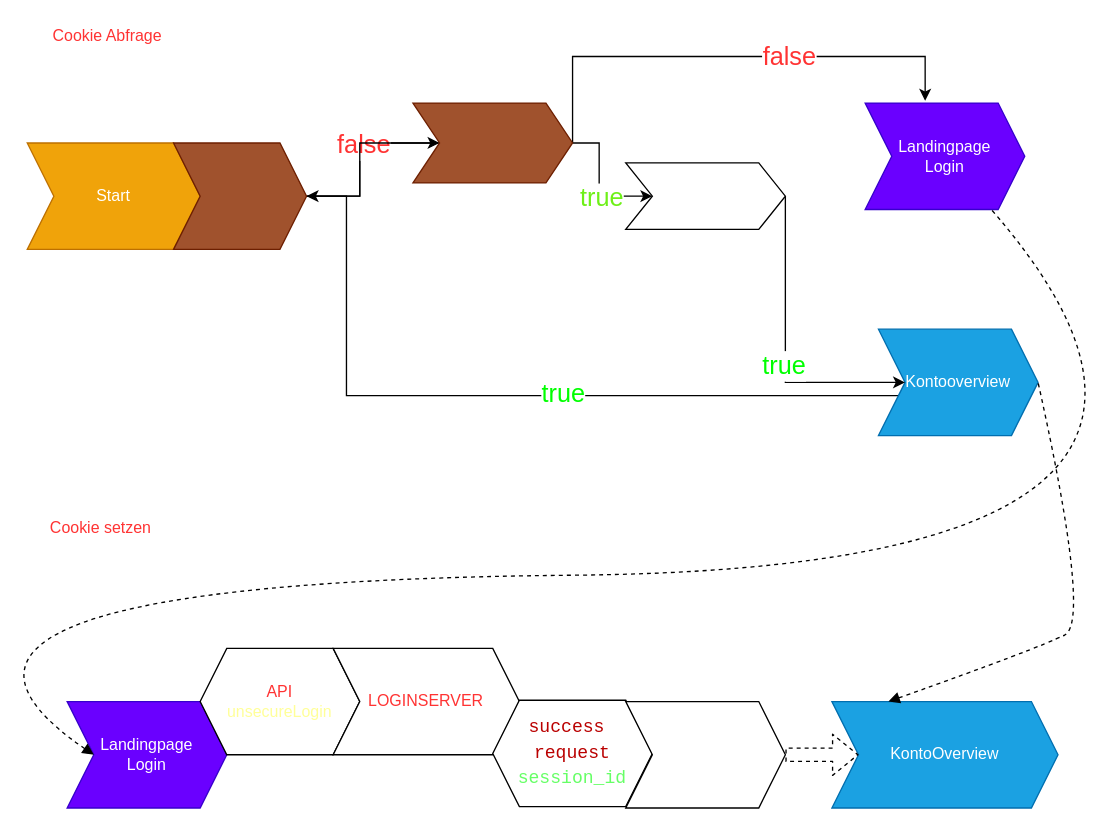
The diagram is 1108 pixels wide and 837 high, and some of its shapes have lost their labels. Each missing label, with the centre of its shape:
is cookie ?: point (239, 195)
is store auth ?: point (492, 142)
set Cookie session_id: point (704, 754)
set new cookie: point (704, 195)
